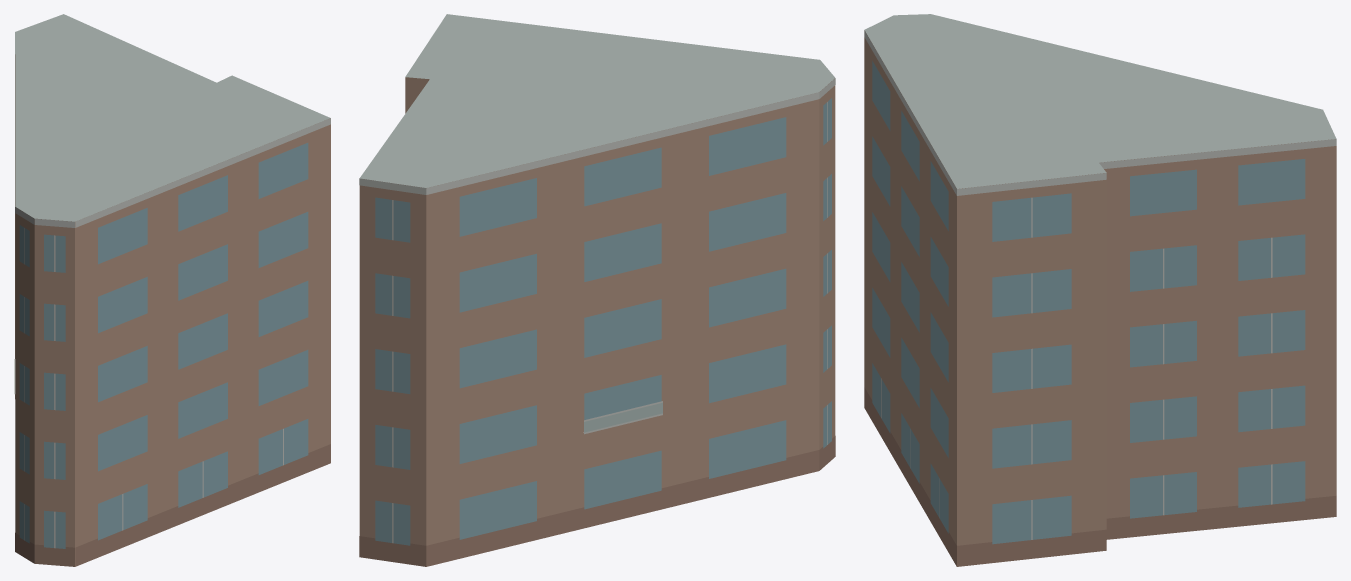
File: survey-upis-32721497.glb
3 renders of one model, left to right at view 1: azimuth 30°, elevation 25°; view 2: azimuth 150°, elevation 25°; view 3: azimuth 270°, elevation 25°, orthographic. The views are drawn at different scales.
Parts seen in each view (by area): view 1: survey-upis-32721497.tmp; view 2: survey-upis-32721497.tmp; view 3: survey-upis-32721497.tmp.
Part boxes in pixels (left/top/right/bottom): survey-upis-32721497.tmp: left=14, top=14, right=330, bottom=566; survey-upis-32721497.tmp: left=359, top=14, right=835, bottom=566; survey-upis-32721497.tmp: left=864, top=14, right=1336, bottom=566.
Bounding box in the file's own units: 13.12 × 13.2 × 14.96.
